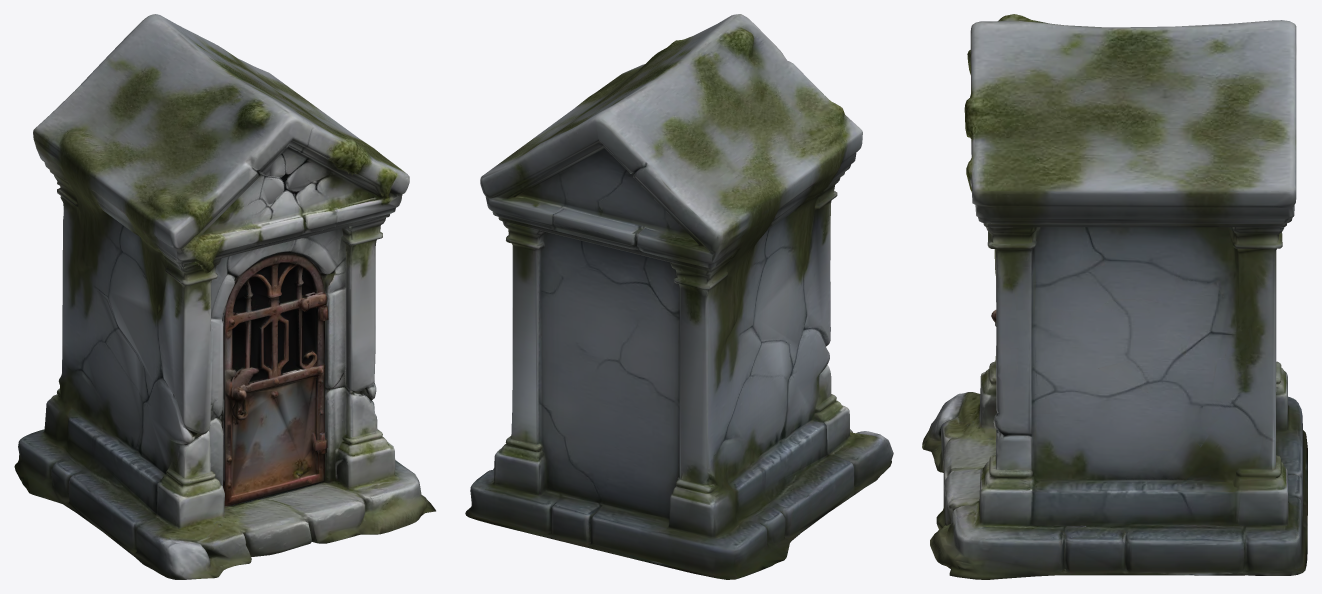
Rendered from Mausoleum3.opt.glb.
3 views of the same model, side by side, from view 1: azimuth 30°, elevation 25°; view 2: azimuth 150°, elevation 25°; view 3: azimuth 270°, elevation 25° (orthographic). The views are drawn at different scales.
Visible parts, largest first — view 1: node_0; view 2: node_0; view 3: node_0.
Boxes of the visible parts, box(x1,y1,x2,y2) form: node_0: box(14, 14, 435, 579); node_0: box(465, 14, 893, 579); node_0: box(922, 14, 1307, 579).
Bounding box in the file's own units: 0.6254 × 0.8647 × 0.6281.
1 material, 1 textured.
